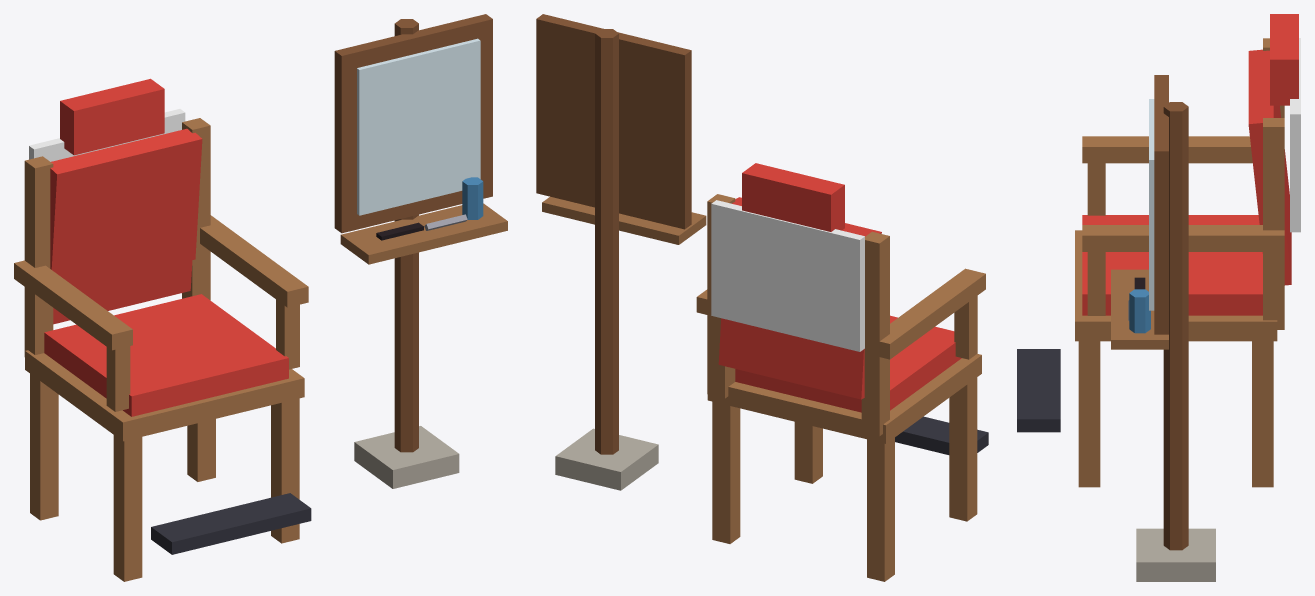
Rendered from ghe-cat-toc.glb.
3 views of the same model, side by side, from view 1: azimuth 30°, elevation 25°; view 2: azimuth 150°, elevation 25°; view 3: azimuth 270°, elevation 25° (orthographic). The views are drawn at different scales.
Parts seen in each view (by area): view 1: ghe-cat-toc-1, ghe-cat-toc-0, ghe-cat-toc-6, ghe-cat-toc-4, ghe-cat-toc-2, ghe-cat-toc-7, ghe-cat-toc-5, ghe-cat-toc-3, ghe-cat-toc-10; view 2: ghe-cat-toc-4, ghe-cat-toc-0, ghe-cat-toc-3, ghe-cat-toc-1, ghe-cat-toc-5, ghe-cat-toc-7, ghe-cat-toc-2; view 3: ghe-cat-toc-0, ghe-cat-toc-4, ghe-cat-toc-1, ghe-cat-toc-5, ghe-cat-toc-2, ghe-cat-toc-7, ghe-cat-toc-3, ghe-cat-toc-6, ghe-cat-toc-10.
Part boxes in pixels (bbox=[...]): ghe-cat-toc-1: bbox=[44, 78, 288, 416]; ghe-cat-toc-0: bbox=[14, 118, 308, 581]; ghe-cat-toc-6: bbox=[357, 38, 480, 215]; ghe-cat-toc-4: bbox=[334, 14, 492, 452]; ghe-cat-toc-2: bbox=[151, 493, 311, 554]; ghe-cat-toc-7: bbox=[340, 203, 507, 264]; ghe-cat-toc-5: bbox=[354, 426, 459, 488]; ghe-cat-toc-3: bbox=[29, 109, 185, 161]; ghe-cat-toc-10: bbox=[462, 177, 483, 219]; ghe-cat-toc-4: bbox=[536, 14, 691, 454]; ghe-cat-toc-0: bbox=[696, 194, 985, 581]; ghe-cat-toc-3: bbox=[711, 200, 864, 351]; ghe-cat-toc-1: bbox=[718, 163, 961, 412]; ghe-cat-toc-5: bbox=[555, 428, 658, 490]; ghe-cat-toc-7: bbox=[542, 196, 706, 244]; ghe-cat-toc-2: bbox=[895, 416, 988, 454]; ghe-cat-toc-0: bbox=[1075, 38, 1284, 487]; ghe-cat-toc-4: bbox=[1154, 75, 1188, 550]; ghe-cat-toc-1: bbox=[1082, 14, 1298, 315]; ghe-cat-toc-5: bbox=[1136, 528, 1215, 581]; ghe-cat-toc-2: bbox=[1017, 349, 1060, 432]; ghe-cat-toc-7: bbox=[1111, 269, 1168, 349]; ghe-cat-toc-3: bbox=[1290, 38, 1300, 232]; ghe-cat-toc-6: bbox=[1149, 99, 1154, 310]; ghe-cat-toc-10: bbox=[1129, 289, 1150, 333].
Bounding box in the file's own units: 1.38 × 1.4 × 0.785.
